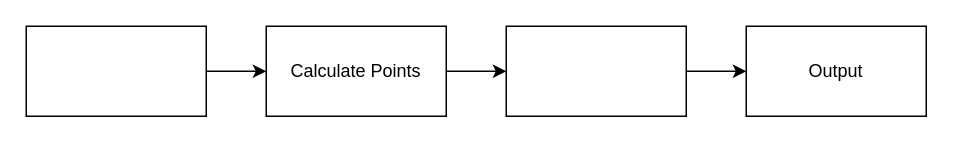
Image size: 953x143. Some labels were removed from this diagram. Each missing label, with the centre of its shape:
Input: (x=115, y=70)
Sort teams: (x=595, y=70)
